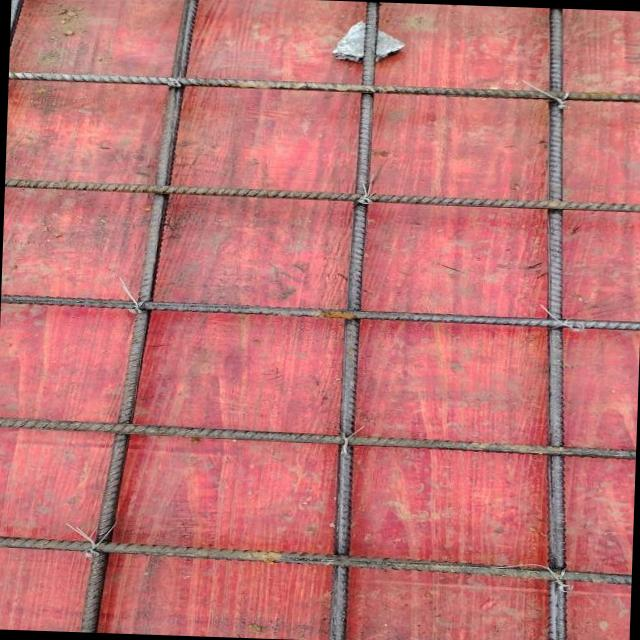ribbed bar: (77, 0, 201, 634), (526, 8, 589, 640), (327, 0, 381, 640), (0, 534, 631, 584), (0, 416, 635, 459), (1, 294, 640, 331), (4, 177, 640, 213), (8, 70, 640, 103)
